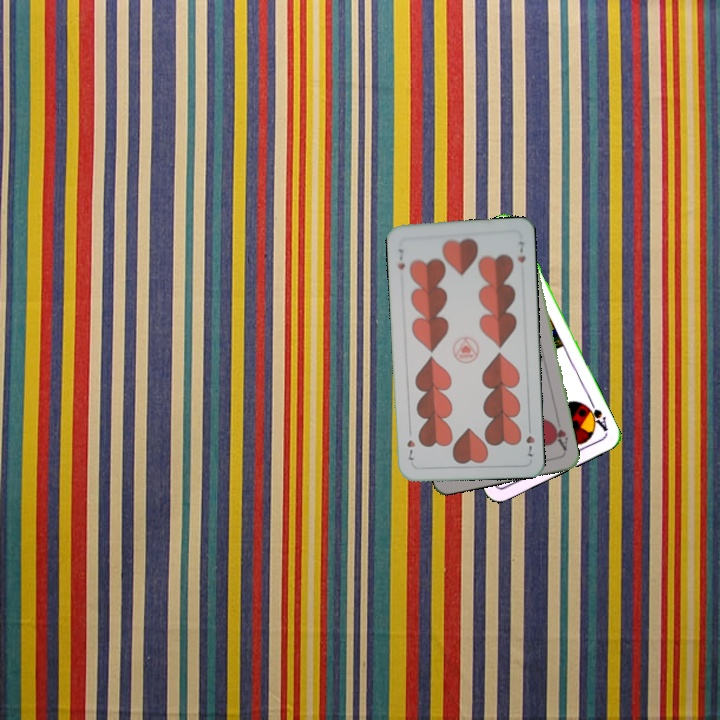H7: (522, 421, 537, 460), (393, 245, 407, 272)
HA: (548, 414, 570, 453)
SA: (581, 397, 611, 434)
